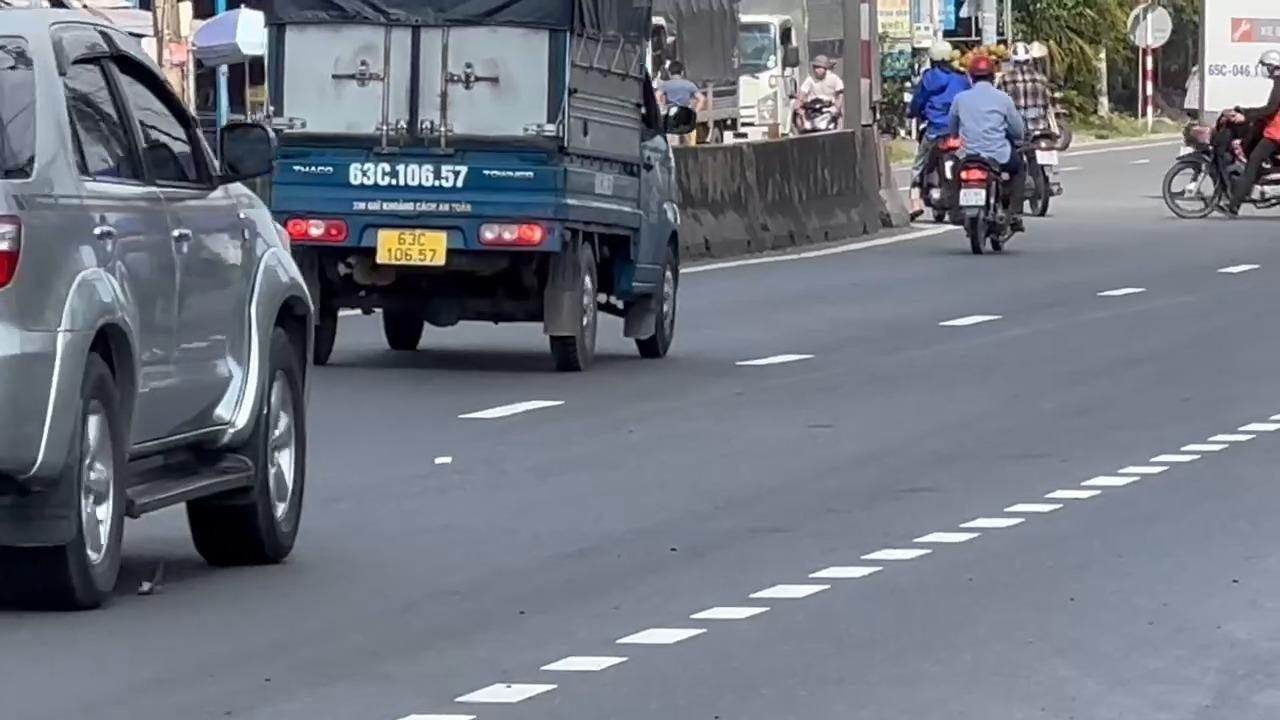bien_so: (374, 227, 448, 267)
